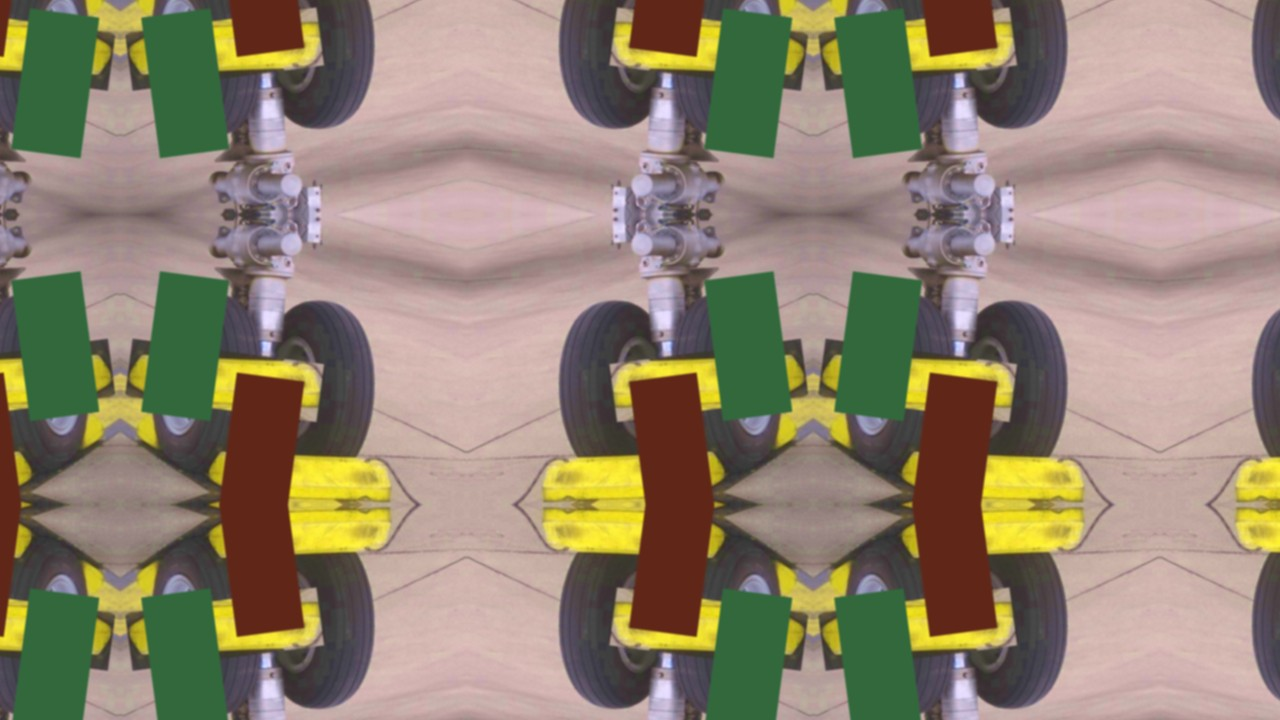chock: (124, 7, 324, 90), (609, 7, 809, 90), (818, 7, 1018, 90), (124, 339, 324, 422), (609, 339, 809, 422), (818, 339, 1018, 422), (124, 588, 324, 671), (609, 588, 809, 671), (818, 588, 1018, 671), (204, 437, 394, 505), (539, 437, 729, 505), (898, 437, 1088, 505), (204, 505, 394, 573), (539, 505, 729, 573), (898, 505, 1088, 573), (0, 7, 115, 90), (0, 339, 115, 422), (0, 588, 115, 671), (1233, 437, 1280, 505), (1233, 505, 1280, 573), (0, 437, 35, 505), (0, 505, 35, 573)
wheel: (139, 286, 269, 479), (664, 286, 794, 479), (833, 286, 963, 479), (139, 531, 269, 720), (664, 531, 794, 720), (833, 531, 963, 720), (258, 294, 387, 466), (546, 294, 675, 466), (952, 294, 1081, 466), (258, 544, 387, 716), (546, 544, 675, 716), (952, 544, 1081, 716), (0, 286, 100, 479), (0, 531, 100, 720), (139, 0, 269, 143), (664, 0, 794, 143), (833, 0, 963, 143), (258, 0, 387, 135), (546, 0, 675, 135), (952, 0, 1081, 135), (0, 0, 100, 143), (1240, 294, 1280, 466), (1240, 544, 1280, 716), (1240, 0, 1280, 135)
